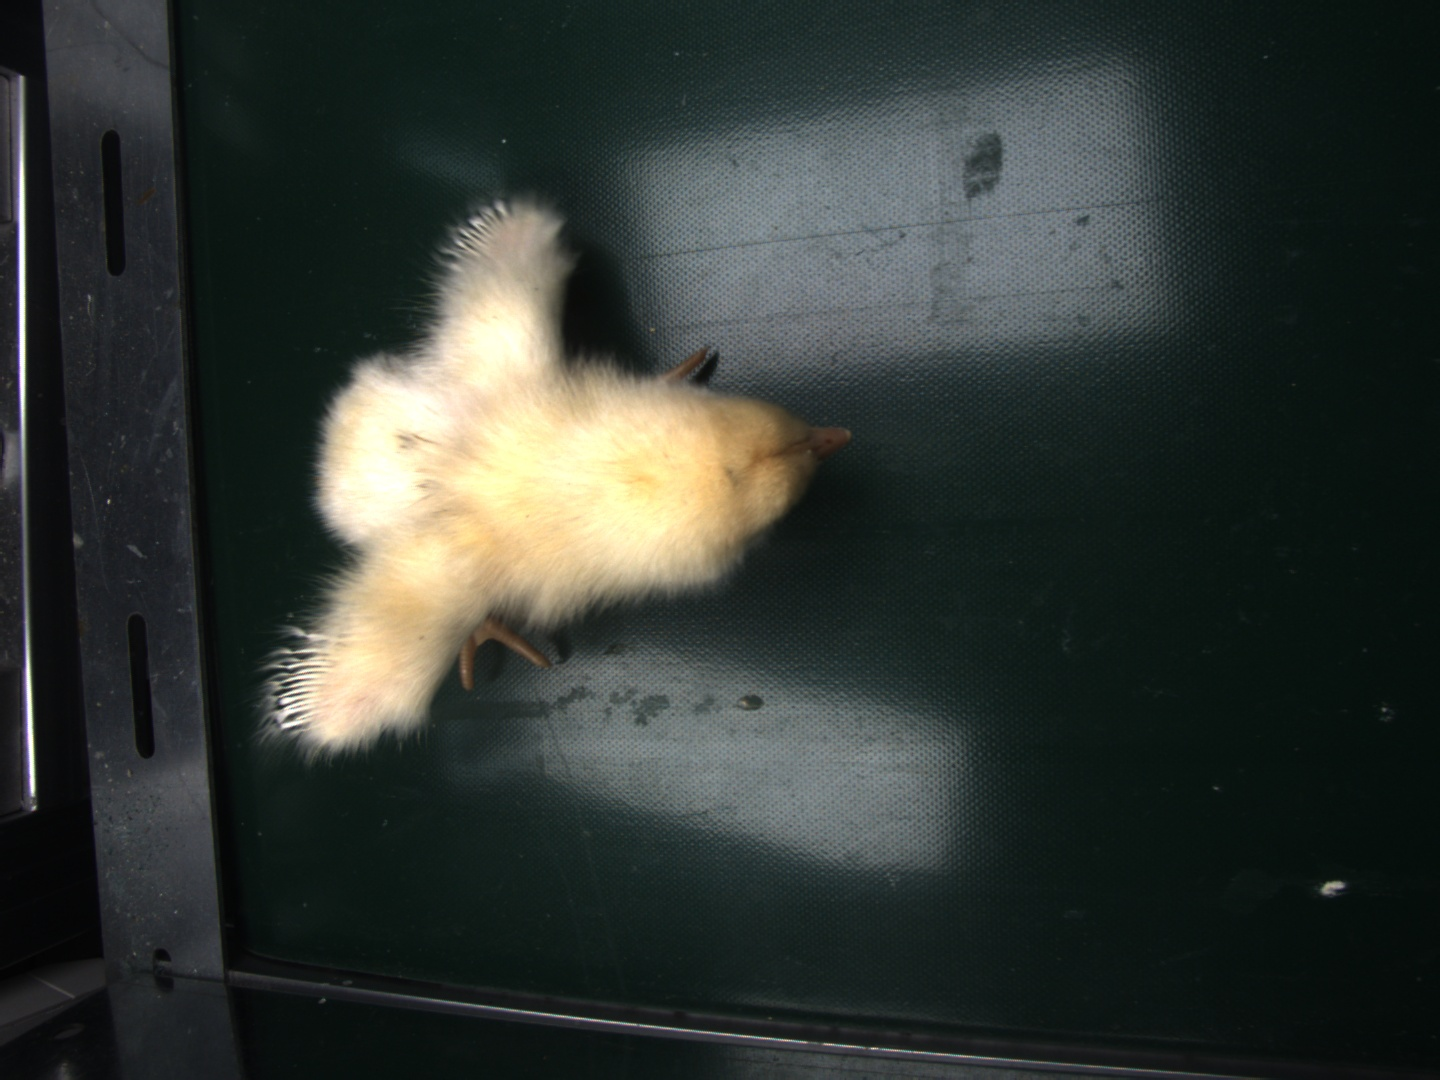male: (276, 647, 327, 732)
